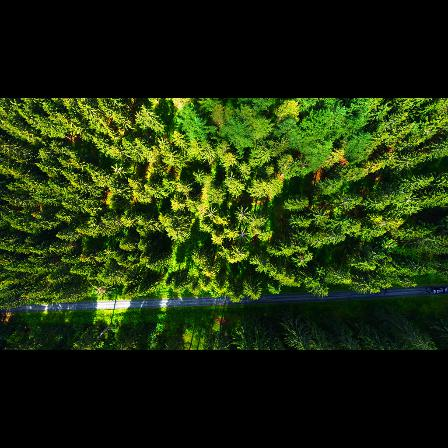Sick: (234, 206, 249, 222), (295, 252, 308, 267), (236, 226, 248, 242), (311, 235, 324, 248), (204, 207, 218, 219)
